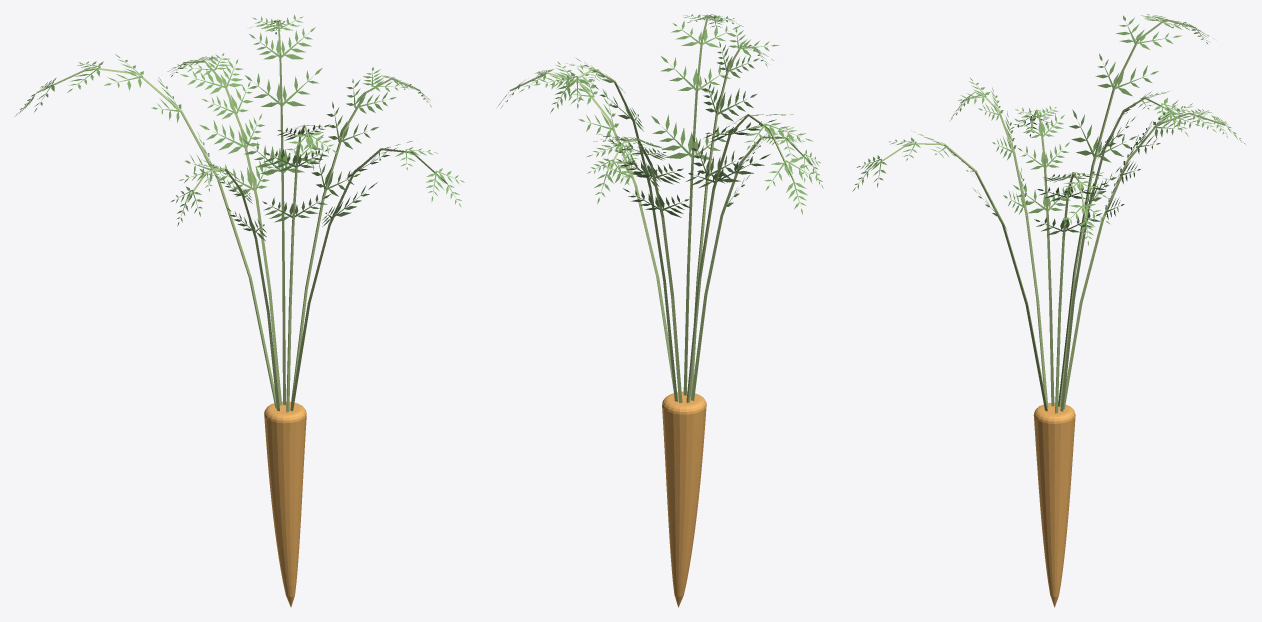
Rendered from carrot_harvest_v11.glb.
3 renders of one model, left to right at view 1: azimuth 30°, elevation 25°; view 2: azimuth 150°, elevation 25°; view 3: azimuth 270°, elevation 25°, orthographic. The views are drawn at different scales.
Parts seen in each view (by area): view 1: plant; view 2: plant; view 3: plant.
Part boxes in pixels (x1=…): plant: x1=15, y1=14, x2=464, y2=607; plant: x1=498, y1=14, x2=823, y2=607; plant: x1=852, y1=14, x2=1245, y2=607.
Size of the model in its own units: 0.3205 by 0.4664 by 0.316.
1 material, 1 textured.
